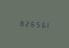eight: (17, 18, 21, 27)
five: (33, 19, 37, 28)
one: (43, 20, 47, 28)
six: (28, 19, 32, 27), (38, 20, 42, 28)
two: (22, 19, 26, 27)
